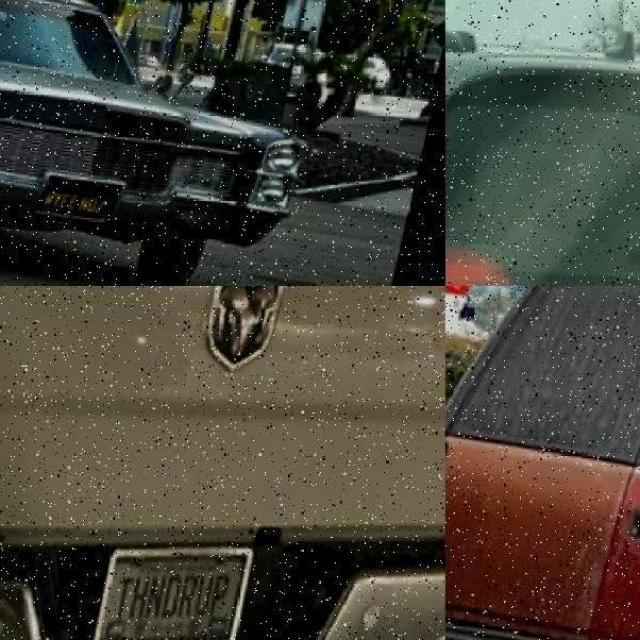license-plate: (89, 554, 264, 640), (41, 174, 136, 230)
